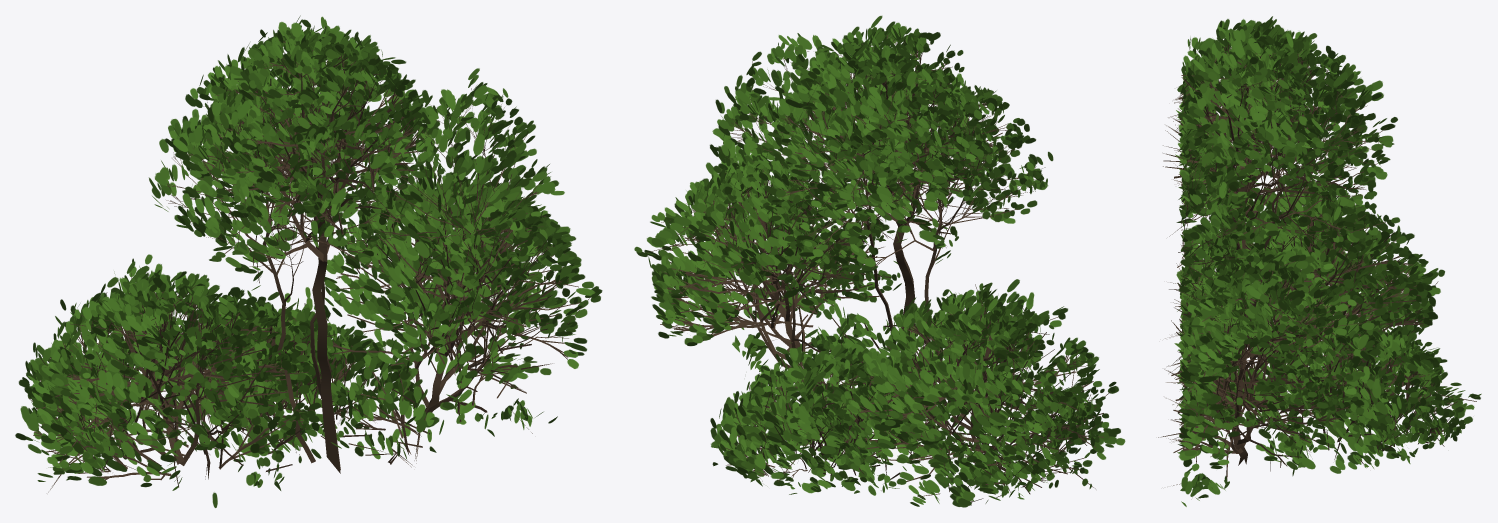
3 renders of one model, left to right at view 1: azimuth 30°, elevation 25°; view 2: azimuth 150°, elevation 25°; view 3: azimuth 270°, elevation 25°, orthographic. The views are drawn at different scales.
Visible parts, largest first — view 1: oak 01.001_trunk_Mat.001_0.339; view 2: oak 01.001_trunk_Mat.001_0.339; view 3: oak 01.001_trunk_Mat.001_0.339.
Boxes of the visible parts, <box> form: oak 01.001_trunk_Mat.001_0.339: <box>15,15,602,507</box>; oak 01.001_trunk_Mat.001_0.339: <box>634,15,1125,507</box>; oak 01.001_trunk_Mat.001_0.339: <box>1158,16,1481,506</box>.
Bounding box in the file's own units: 5.75 × 4.69 × 3.4.
2 materials, 1 textured.
